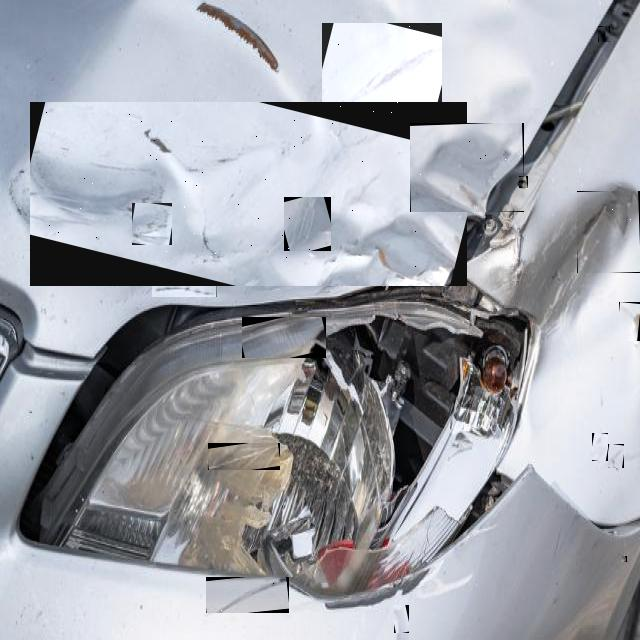Dent: (30, 102, 467, 286), (322, 23, 442, 129), (410, 123, 524, 212), (124, 143, 246, 188), (577, 191, 640, 273), (242, 317, 326, 358), (206, 577, 289, 613), (284, 197, 331, 251), (208, 443, 280, 470), (132, 203, 172, 245), (152, 284, 217, 297), (619, 302, 640, 341), (215, 233, 240, 264), (394, 606, 409, 636), (592, 433, 608, 461), (608, 444, 624, 468), (598, 26, 610, 42), (519, 176, 528, 188), (622, 556, 627, 562)
